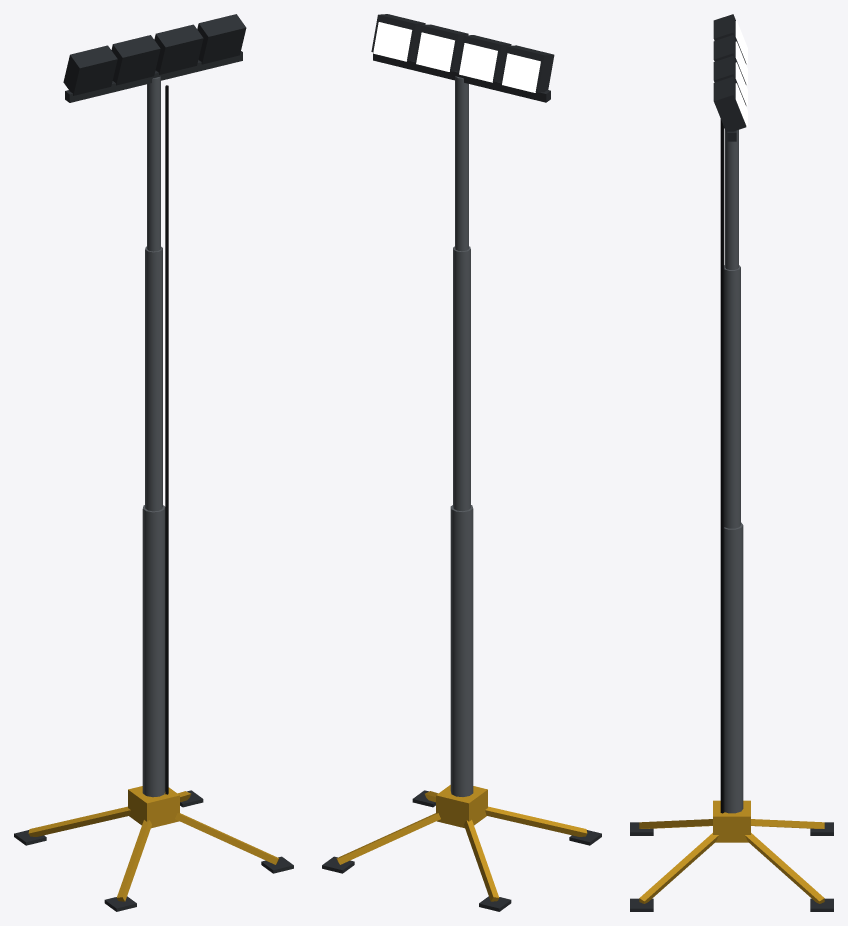
File: gs-light-tower.glb
The picture shows the model from 3 angles, left to right: view 1: azimuth 30°, elevation 25°; view 2: azimuth 150°, elevation 25°; view 3: azimuth 270°, elevation 25°; orthographic projection.
Visible parts, largest first — view 1: gs-light-tower; view 2: gs-light-tower; view 3: gs-light-tower.
Part boxes in pixels (bbox=[...]): gs-light-tower: bbox=[14, 14, 293, 911]; gs-light-tower: bbox=[322, 14, 601, 911]; gs-light-tower: bbox=[630, 14, 833, 911].
Size of the model in its own units: 2.15 by 9.48 by 2.15.
